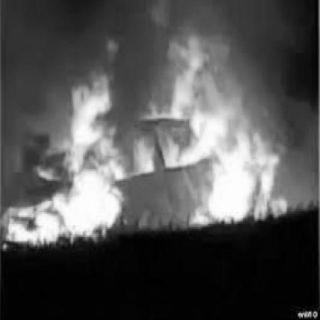Fire: (2, 10, 292, 254)
